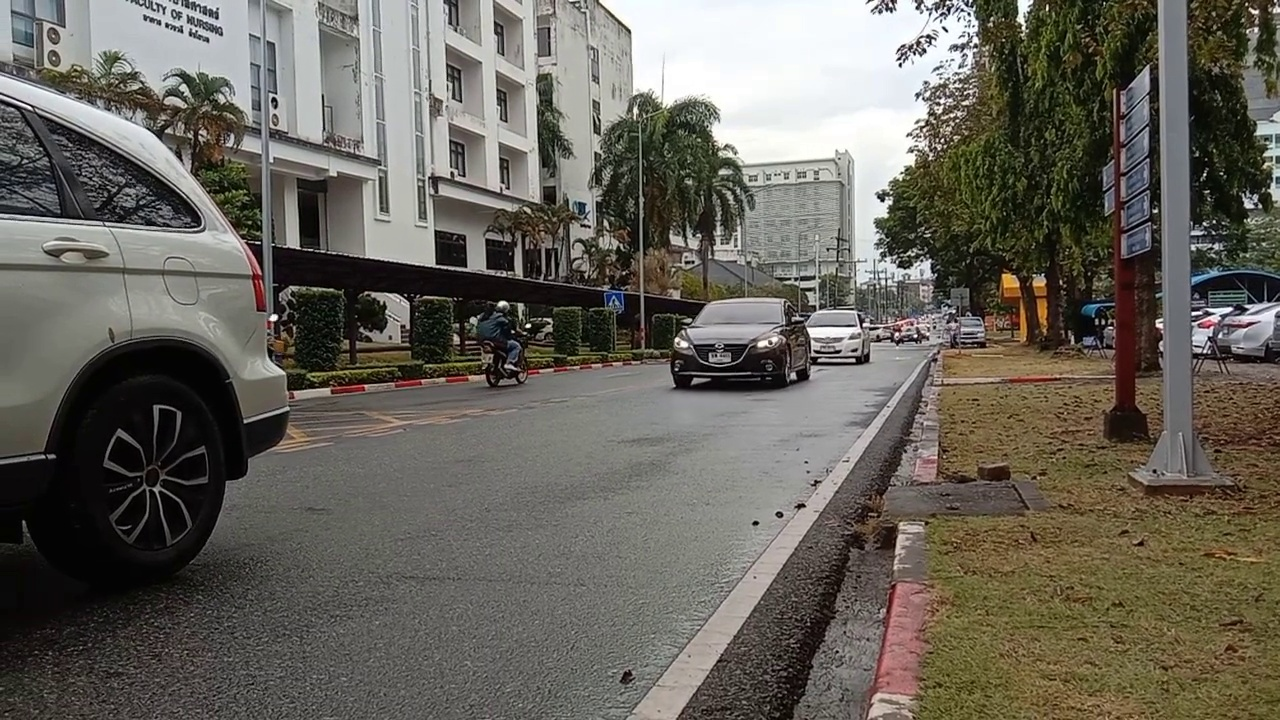License Plate: (706, 350, 734, 363)
